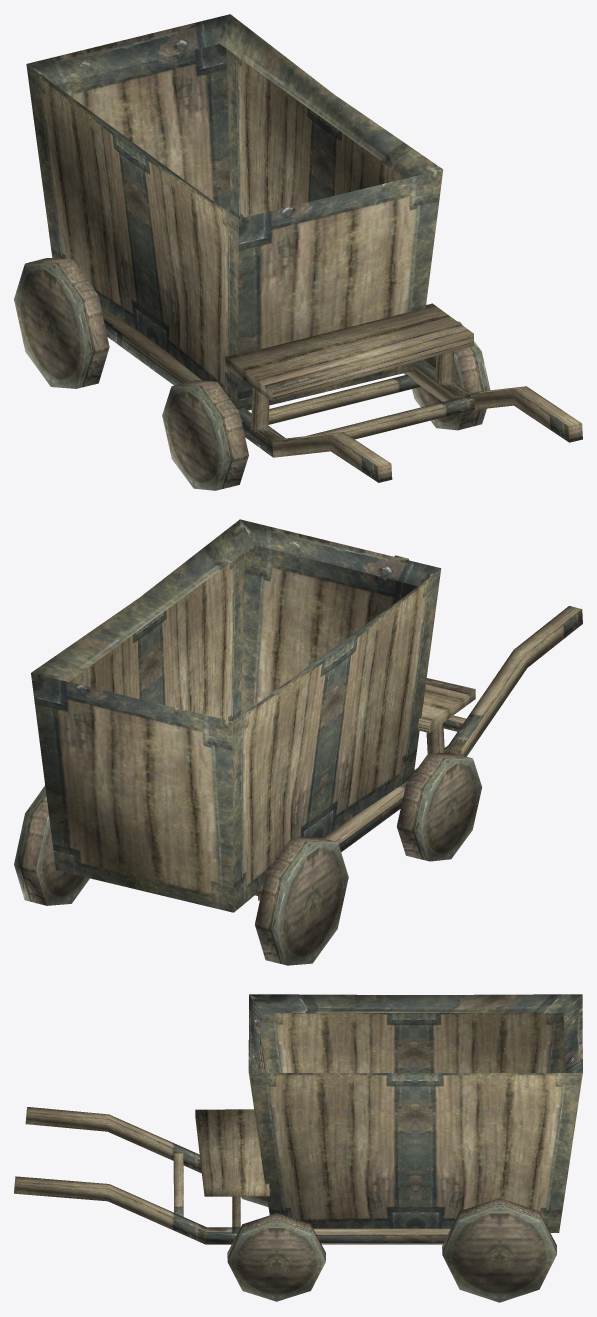
Rendered from S_Build_West031.FBX.
The picture shows the model from 3 angles, top to bottom: view 1: azimuth 30°, elevation 25°; view 2: azimuth 150°, elevation 25°; view 3: azimuth 270°, elevation 25°; orthographic projection. The views are drawn at different scales.
Visible parts, largest first — view 1: S_Build_West031; view 2: S_Build_West031; view 3: S_Build_West031.
Part boxes in pixels (x1,y1,x2,y2): S_Build_West031: (14, 14, 582, 490); S_Build_West031: (14, 519, 582, 965); S_Build_West031: (14, 994, 582, 1302).
Size of the model in its own units: 178 by 415 by 176.
